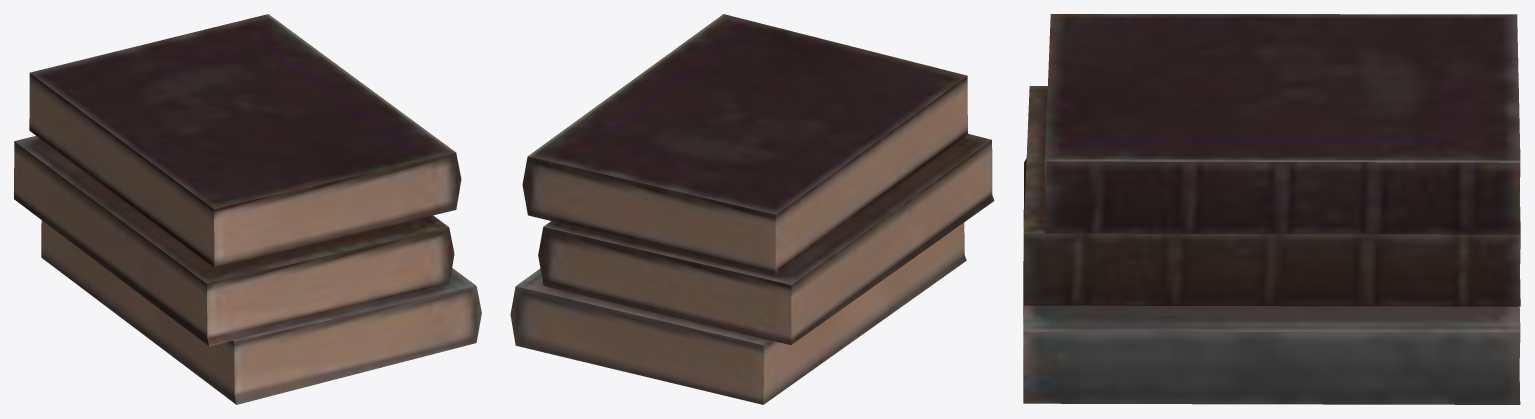
File: book-pile-c.lod1.glb
The picture shows the model from 3 angles, left to right: view 1: azimuth 30°, elevation 25°; view 2: azimuth 150°, elevation 25°; view 3: azimuth 270°, elevation 25°; orthographic projection. The views are drawn at different scales.
Visible parts, largest first — view 1: book-pile-c; view 2: book-pile-c; view 3: book-pile-c.
Boxes of the visible parts, x1,y1,x2,y2 form: book-pile-c: (14, 14, 481, 404); book-pile-c: (510, 14, 994, 404); book-pile-c: (1023, 14, 1520, 404).
Size of the model in its own units: 0.1836 by 0.1225 by 0.23.
1 material, 1 textured.
